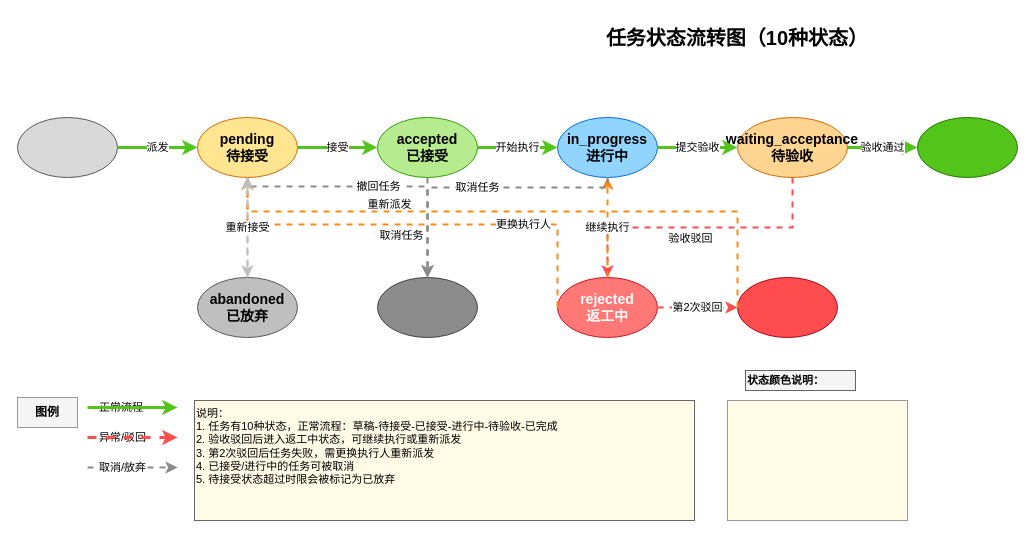
The diagram is 1035 pixels wide and 538 high, and some of its shapes have lost their labels. Each missing label, with the centre of its shape:
"cancelled 已取消" belongs at point 427,307.
"completed 已完成" belongs at point 967,147.
"draft 草稿" belongs at point 67,147.
"failed 任务失败" belongs at point 787,307.
"灰色：草稿/已放弃 黄色：待接受/待验收 绿色：已接受/已完成 蓝色：进行中 橙色：返工中 红色：任务失败 灰色：已取消" belongs at point 817,460.
